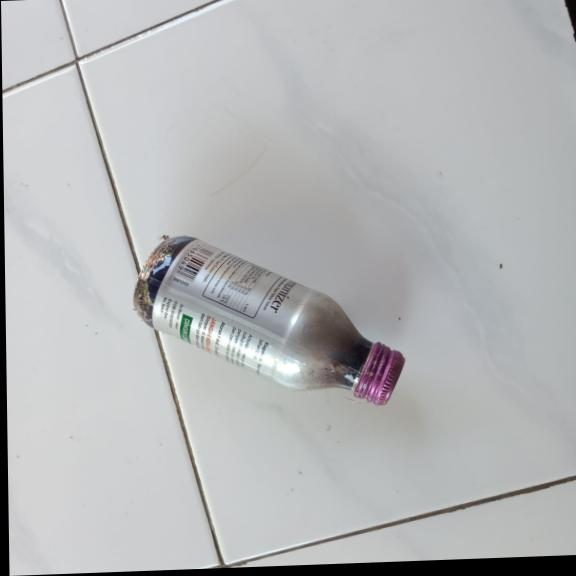Plastik: (128, 227, 406, 415)
